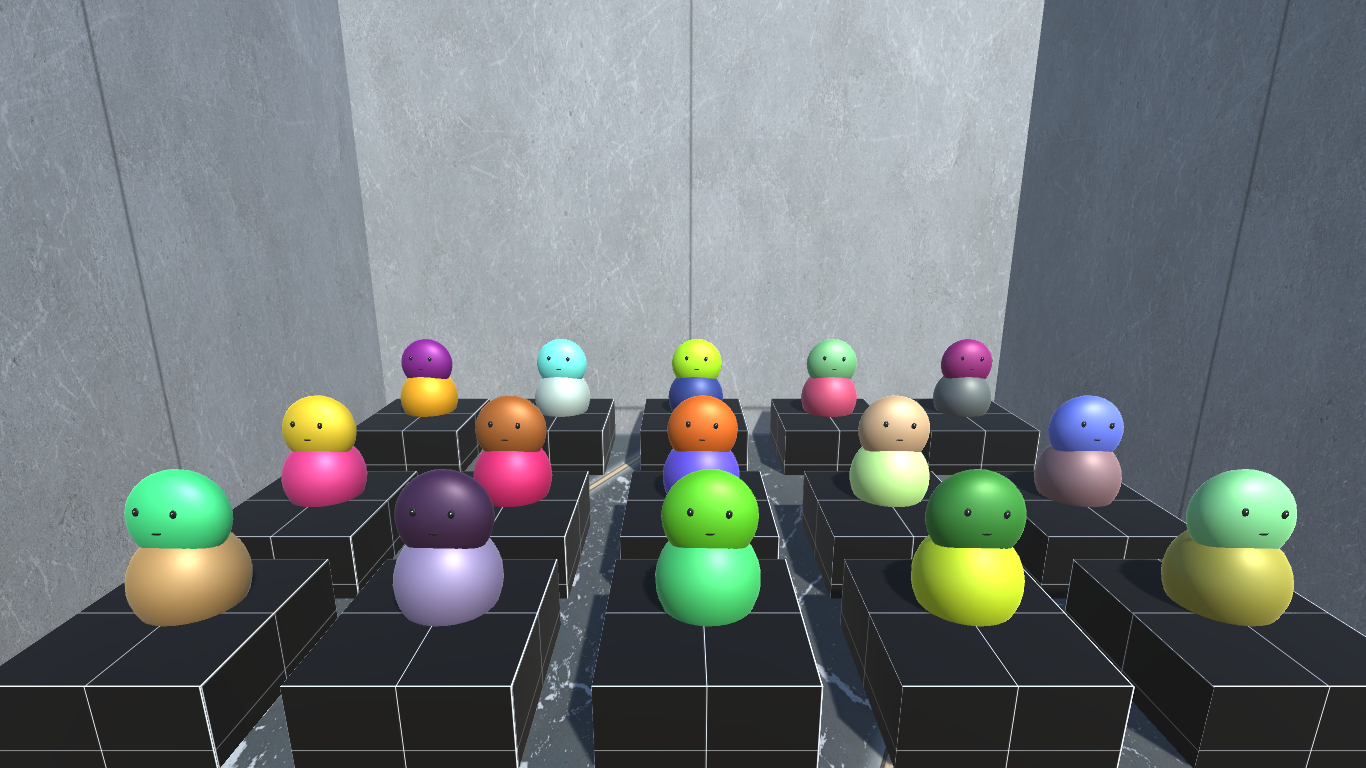blob_normal: (1159, 469, 1306, 638), (121, 465, 251, 629), (911, 468, 1039, 627), (384, 474, 513, 624), (664, 473, 767, 632), (1023, 396, 1132, 508), (846, 393, 931, 519), (288, 390, 378, 508), (475, 400, 554, 507), (663, 392, 739, 488), (933, 341, 1002, 423), (665, 339, 731, 412), (401, 339, 455, 425), (530, 339, 589, 417), (803, 341, 858, 423)
